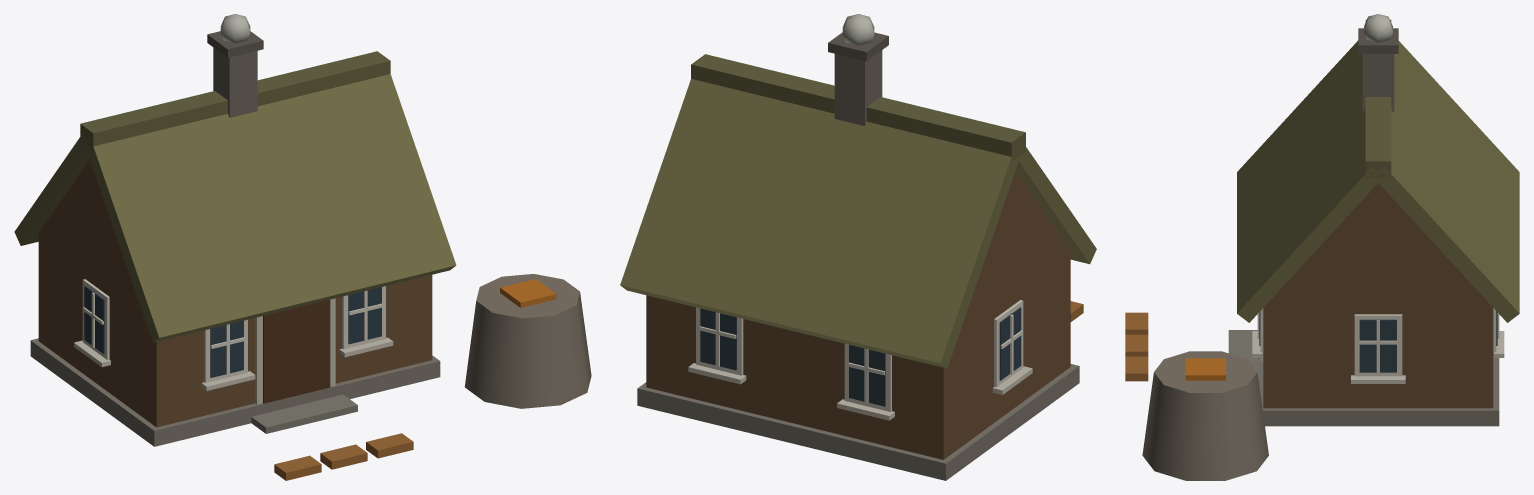
The model's file is procedural_bronze_foundry@3.glb.
3 renders of one model, left to right at view 1: azimuth 30°, elevation 25°; view 2: azimuth 150°, elevation 25°; view 3: azimuth 270°, elevation 25°, orthographic. The views are drawn at different scales.
Parts seen in each view (by area): view 1: part_0, part_4; view 2: part_0, part_4; view 3: part_0, part_4.
Part boxes in pixels (x1,y1,x2,y2): part_0: (14,31,591,480); part_4: (220,14,250,43); part_0: (620,32,1096,480); part_4: (842,14,874,45); part_0: (1125,19,1519,480); part_4: (1364,14,1392,42).
Size of the model in its own units: 7.96 by 6.59 by 6.86.
